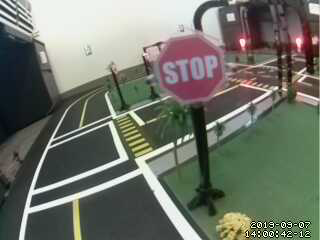Stop_Sign: (148, 32, 236, 108)
